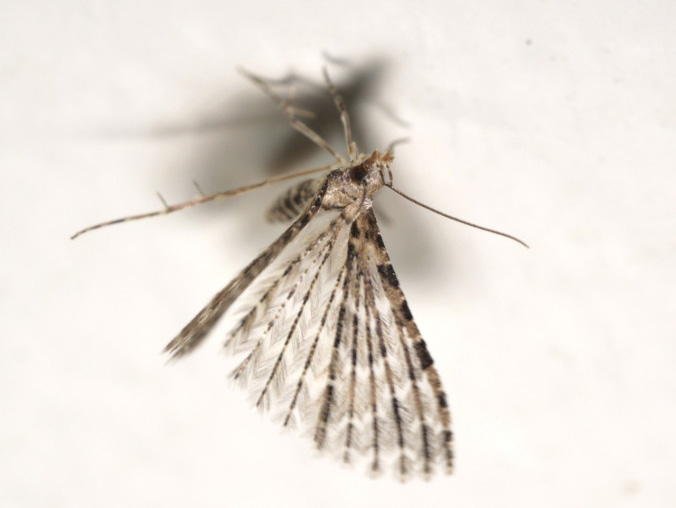Alucitidae: (61, 58, 543, 483)
moth: (59, 56, 541, 481)
